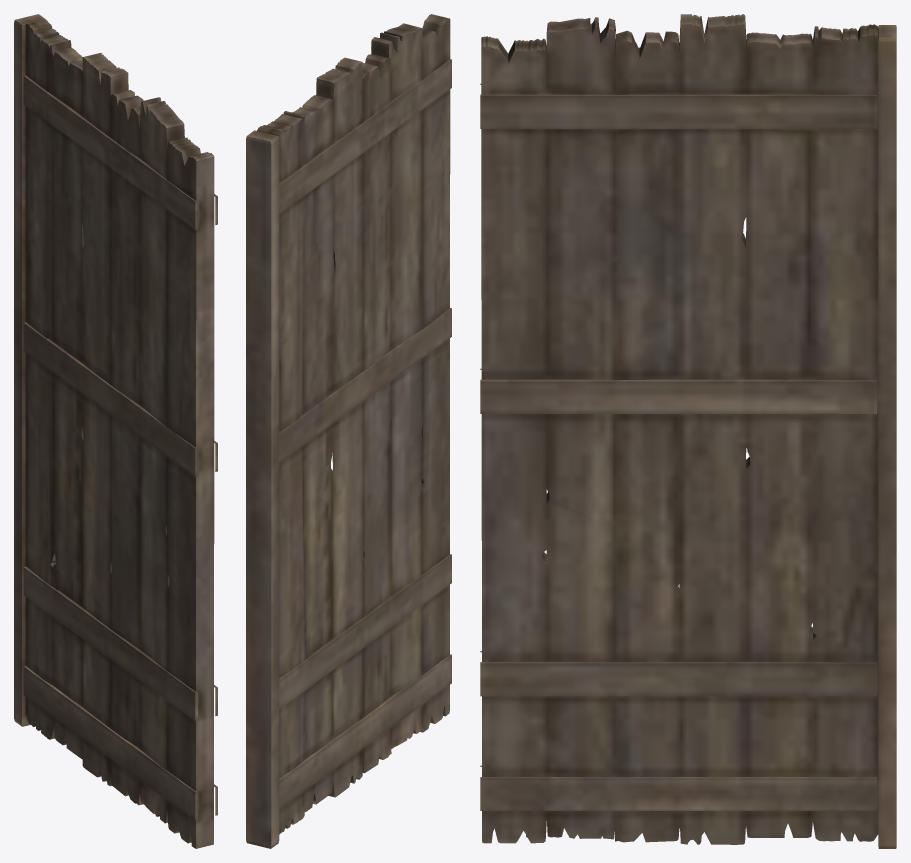
File: SM_Gate_DoorRight_Wood_81dad3.glb
3 renders of one model, left to right at view 1: azimuth 30°, elevation 25°; view 2: azimuth 150°, elevation 25°; view 3: azimuth 270°, elevation 25°, orthographic. The views are drawn at different scales.
Bounding box in the file's own units: 0.2375 × 6.5 × 2.98.
1 material, 1 textured.
